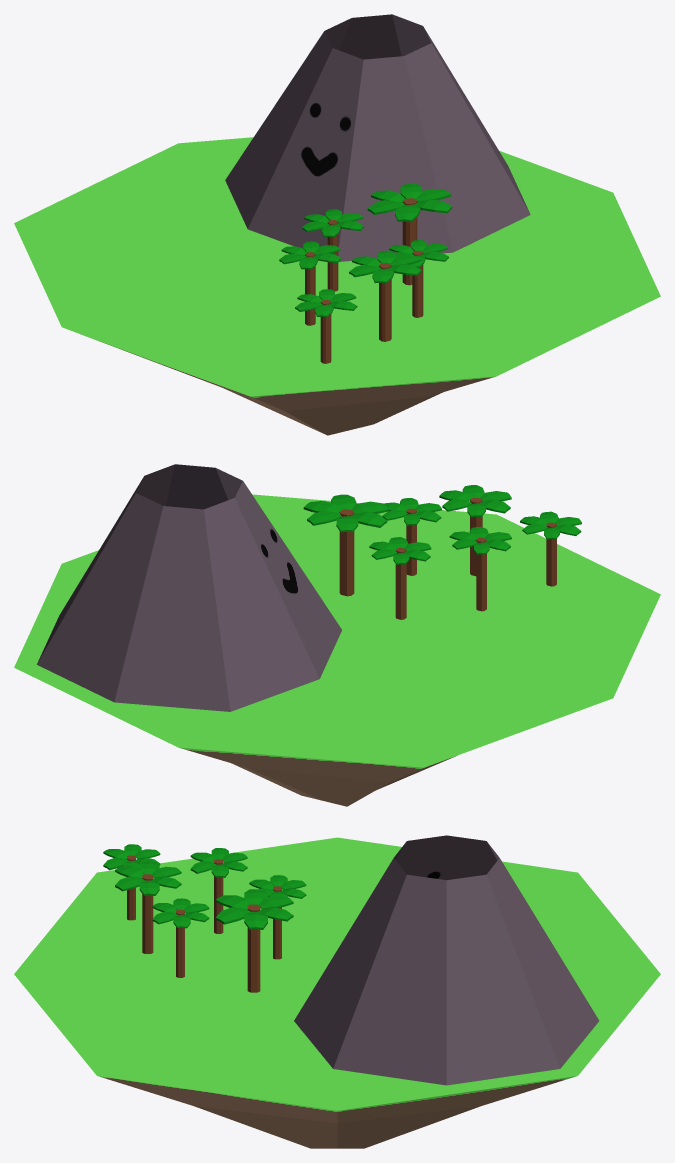
Rendered from island.glb.
3 views of the same model, one above another, from view 1: azimuth 30°, elevation 25°; view 2: azimuth 150°, elevation 25°; view 3: azimuth 270°, elevation 25° (orthographic).
Visible parts, largest first — view 1: Cube, Cube.001, Cube.021, Cube.005, Cube.004, Cube.025; view 2: Cube, Cube.001, Cube.002, Cube.004, Cube.013, Cube.009, Cube.003, Cube.005, Cube.025, Cube.019; view 3: Cube, Cube.001, Cube.002, Cube.021, Cube.005, Cube.003, Cube.004, Cube.020, Cube.009, Cube.017, Cube.019, Cube.018.
Part boxes in pixels (box(x1,y1,x2,y2)): Cube: box(14, 137, 660, 435); Cube.001: box(225, 14, 530, 261); Cube.021: box(379, 263, 391, 341); Cube.005: box(395, 199, 452, 222); Cube.004: box(367, 188, 451, 214); Cube.025: box(320, 299, 331, 363); Cube: box(14, 494, 660, 806); Cube.001: box(37, 464, 341, 711); Cube.002: box(339, 509, 354, 596); Cube.004: box(303, 501, 387, 527); Cube.013: box(395, 548, 406, 619); Cube.009: box(476, 537, 486, 611); Cube.003: box(307, 510, 358, 532); Cube.005: box(331, 494, 388, 513); Cube.025: box(546, 522, 556, 586); Cube.019: box(439, 490, 510, 513); Cube: box(14, 837, 660, 1148); Cube.001: box(294, 835, 599, 1085); Cube.002: box(247, 904, 260, 992); Cube.021: box(142, 874, 153, 953); Cube.005: box(215, 895, 250, 924); Cube.003: box(258, 895, 293, 921); Cube.004: box(244, 889, 267, 929); Cube.020: box(115, 866, 145, 891); Cube.009: box(214, 859, 223, 933); Cube.017: box(176, 909, 184, 977); Cube.019: box(139, 861, 159, 895); Cube.018: box(151, 866, 181, 888).
Bounding box in the file's own units: 13.31 × 7.4 × 13.31.
4 materials, 2 textured.
